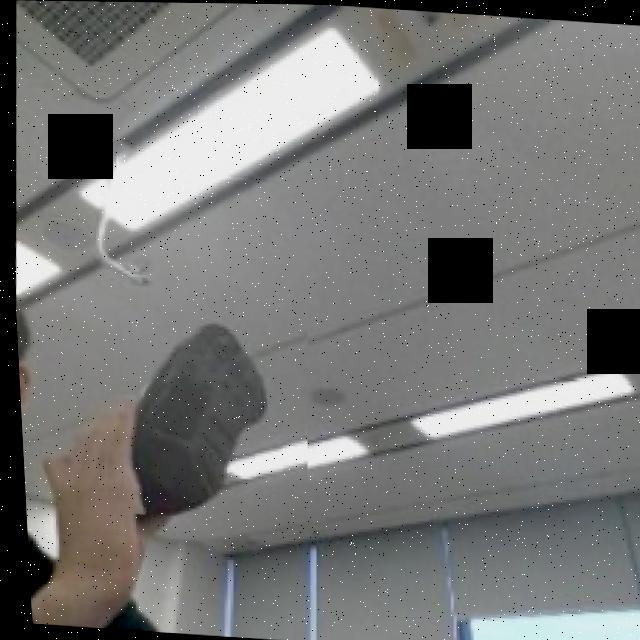shoe: (84, 290, 314, 526)
